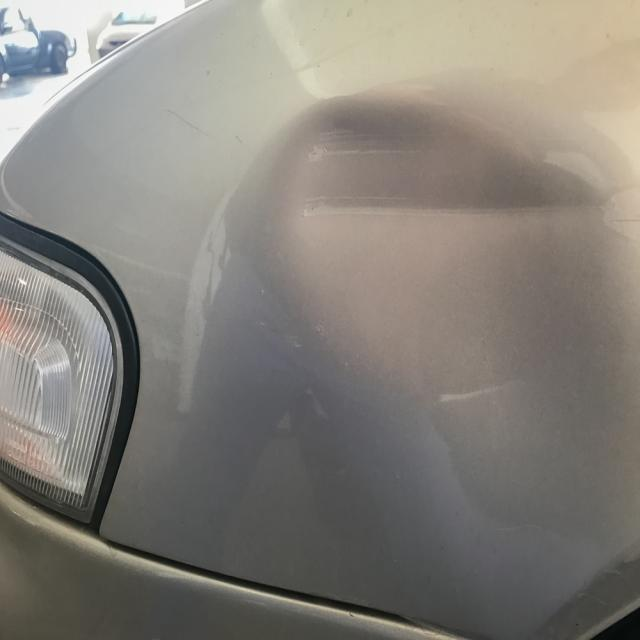dent: (260, 93, 640, 558)
